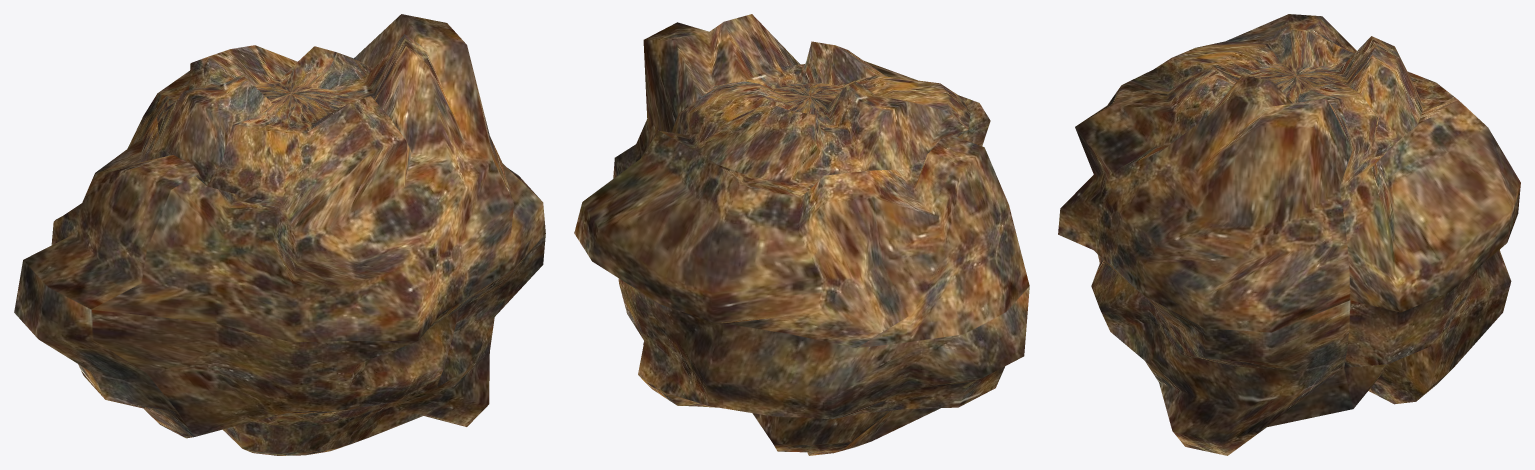
Rendered from eucrite.fbx.
The picture shows the model from 3 angles, left to right: view 1: azimuth 30°, elevation 25°; view 2: azimuth 150°, elevation 25°; view 3: azimuth 270°, elevation 25°; orthographic projection. The views are drawn at different scales.
Visible parts, largest first — view 1: pSphere1; view 2: pSphere1; view 3: pSphere1.
Part boxes in pixels (bbox=[...]): pSphere1: bbox=[14, 14, 545, 455]; pSphere1: bbox=[574, 14, 1029, 455]; pSphere1: bbox=[1058, 14, 1520, 455].
Size of the model in its own units: 15.45 by 12.46 by 13.94.
1 material, 1 textured.
